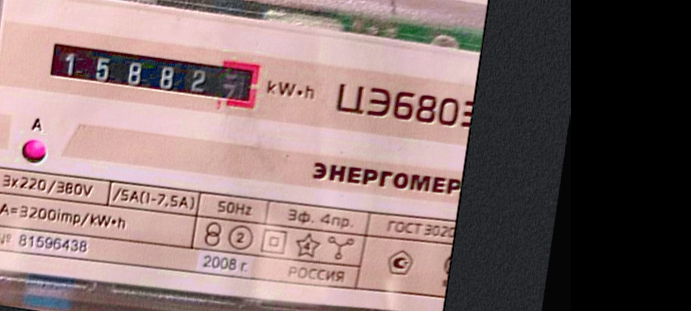1: (64, 46, 81, 76)
2: (190, 65, 210, 93)
5: (94, 52, 115, 84)
7: (223, 79, 238, 97)
8: (126, 57, 146, 87), (159, 61, 179, 91)
screen: (38, 24, 271, 116)
